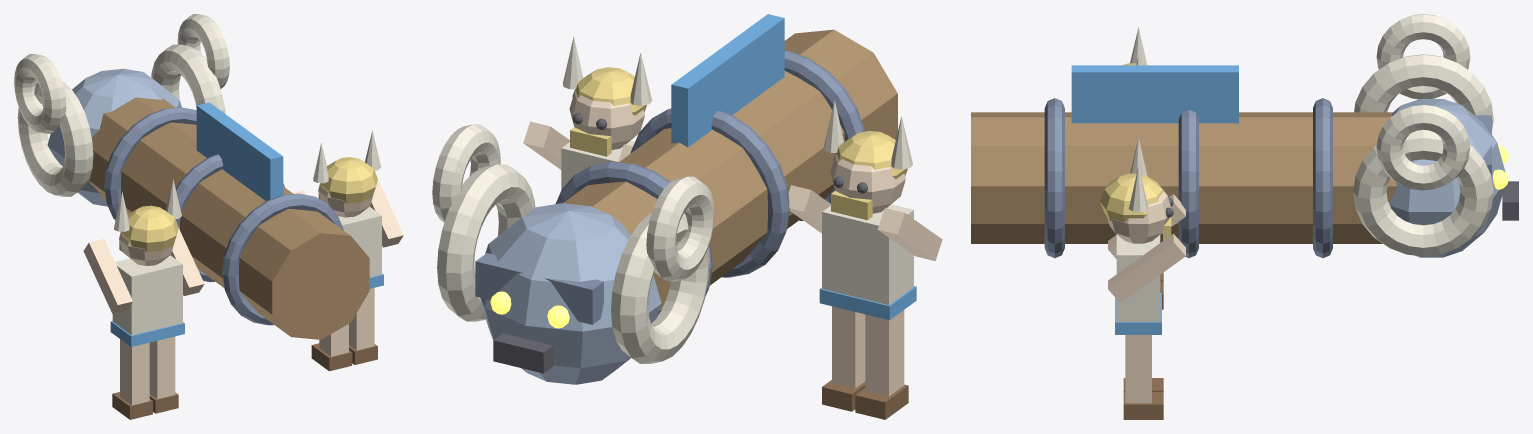
The model's file is battle_ram.glb.
3 views of the same model, side by side, from view 1: azimuth 30°, elevation 25°; view 2: azimuth 150°, elevation 25°; view 3: azimuth 270°, elevation 25° (orthographic). The views are drawn at different scales.
Visible parts, largest first — view 1: battle_ram; view 2: battle_ram; view 3: battle_ram.
Boxes of the visible parts, left/top/right/bottom form: battle_ram: left=14, top=14, right=403, bottom=419; battle_ram: left=432, top=14, right=942, bottom=419; battle_ram: left=971, top=14, right=1518, bottom=419.
Size of the model in its own units: 2.24 by 1.92 by 3.27.
